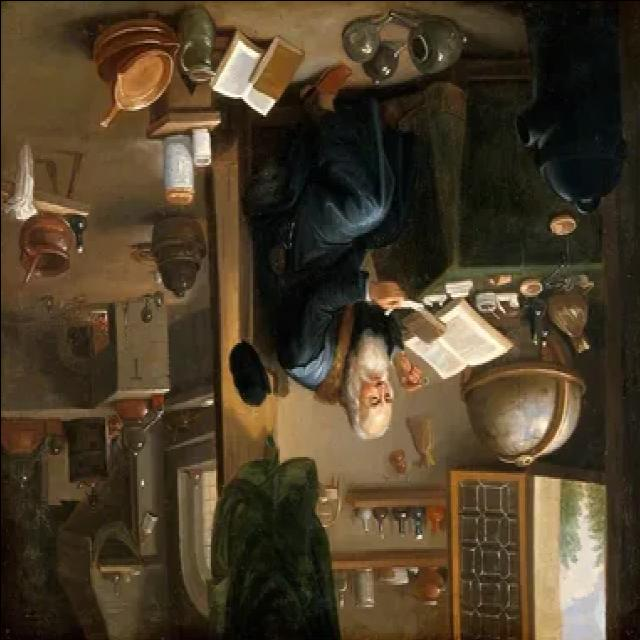book: (394, 294, 520, 400), (208, 18, 300, 132)
